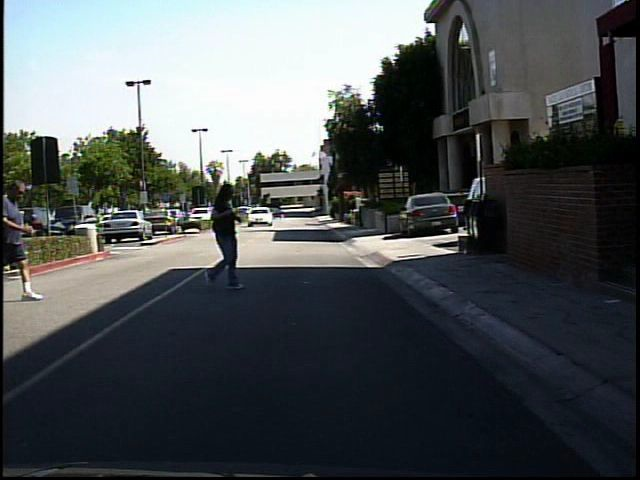person: (1, 169, 47, 306), (202, 177, 253, 292)
